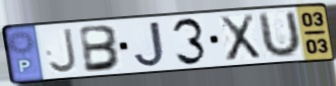3: (168, 16, 207, 67)
B: (78, 23, 124, 74)
J: (132, 20, 167, 70), (47, 26, 80, 75)
U: (258, 9, 304, 61)
X: (217, 12, 263, 64)
